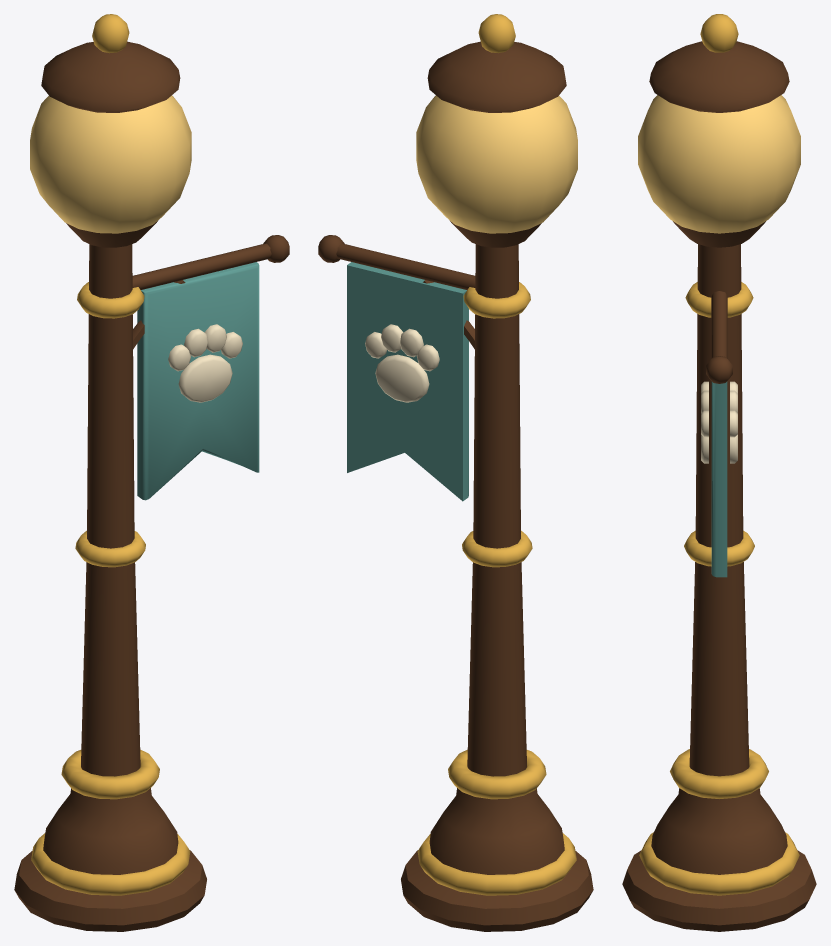
Rendered from ShopStreetLamp.fbx.
3 views of the same model, side by side, from view 1: azimuth 30°, elevation 25°; view 2: azimuth 150°, elevation 25°; view 3: azimuth 270°, elevation 25° (orthographic).
Visible parts, largest first — view 1: ShopStreetLamp; view 2: ShopStreetLamp; view 3: ShopStreetLamp.
Boxes of the visible parts, left/top/right/bottom form: ShopStreetLamp: left=14, top=14, right=289, bottom=931; ShopStreetLamp: left=318, top=14, right=593, bottom=931; ShopStreetLamp: left=622, top=14, right=816, bottom=931.
Size of the model in its own units: 0.9478 by 3.04 by 0.61.
